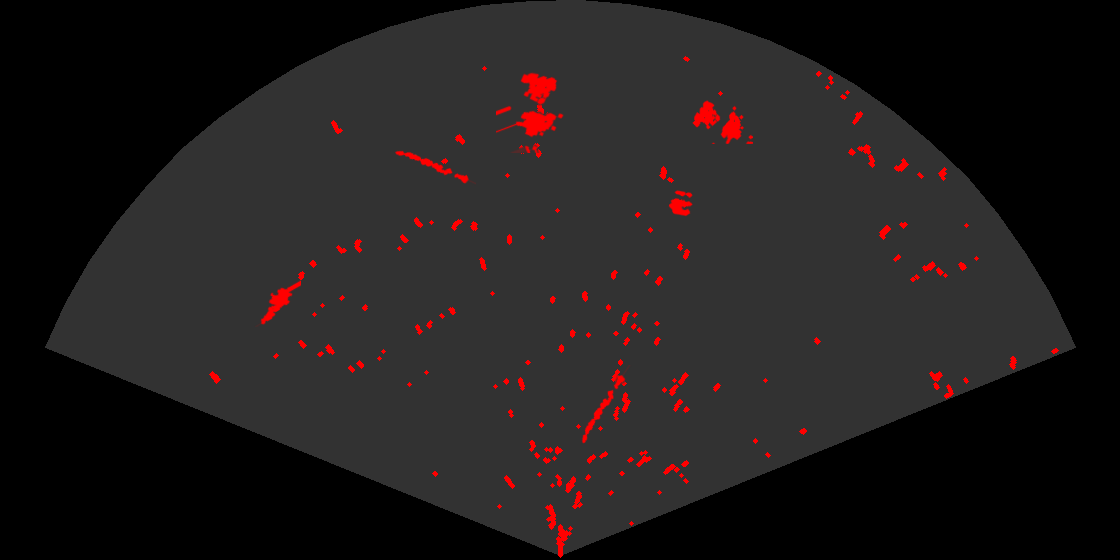ball: (667, 189, 694, 218)
cage: (496, 71, 565, 153), (691, 99, 753, 144)
chain: (580, 365, 632, 445), (393, 149, 476, 186)
frogman: (254, 280, 301, 327)
